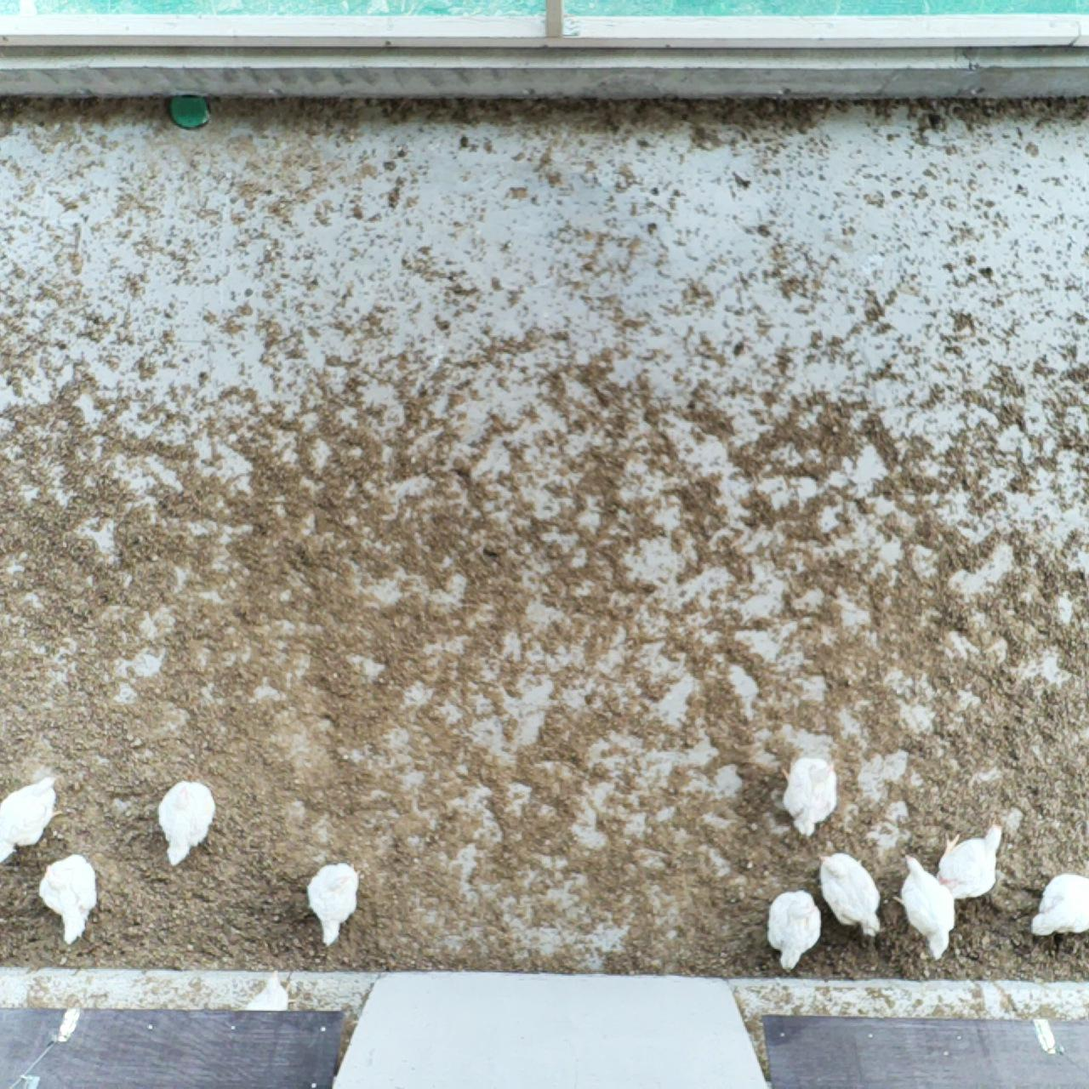chicken: (891, 850, 959, 962), (813, 849, 889, 941), (934, 817, 1009, 905), (36, 852, 102, 946), (0, 774, 67, 863), (153, 776, 220, 865), (777, 754, 843, 841), (301, 858, 364, 948), (763, 888, 827, 975), (1029, 869, 1089, 940)
